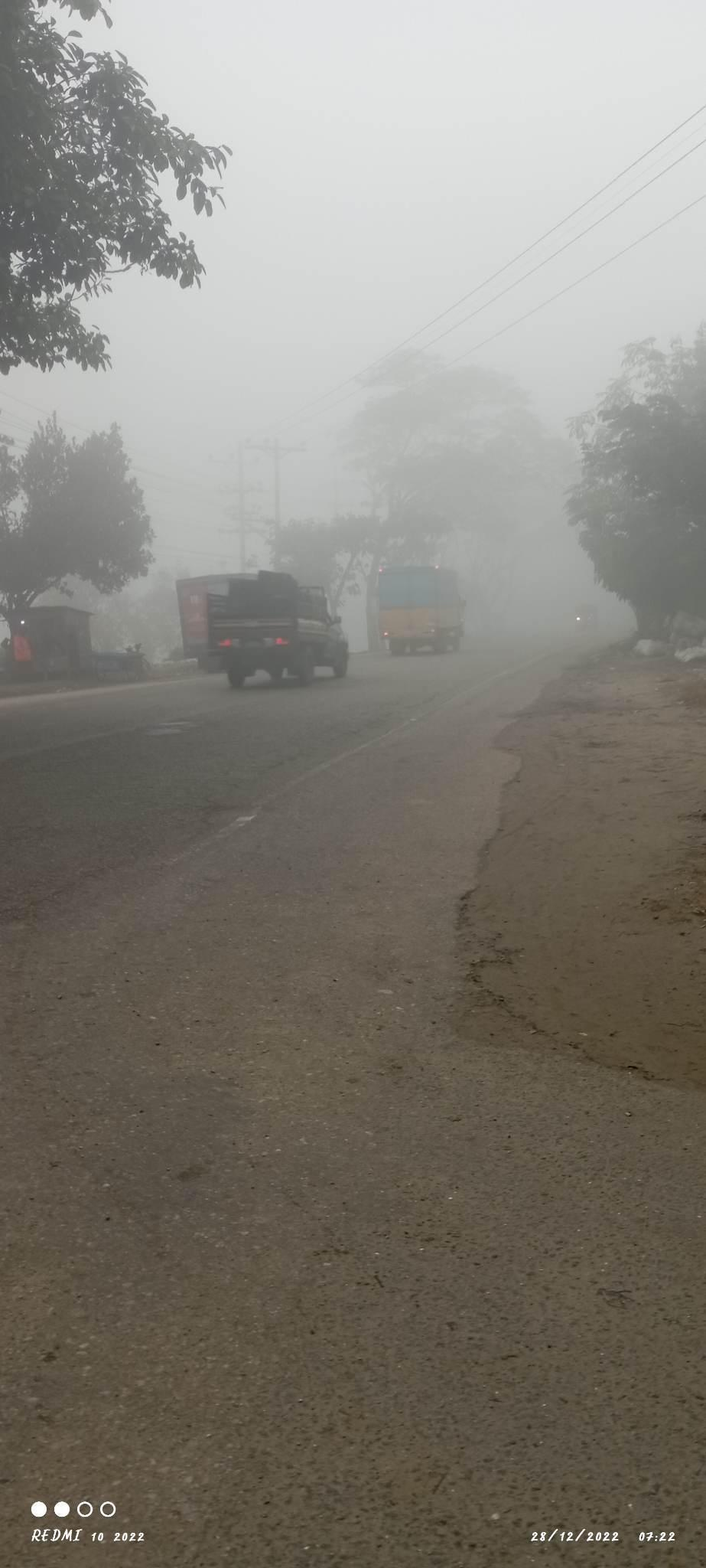Truck: (192, 564, 373, 702), (373, 543, 483, 684)
